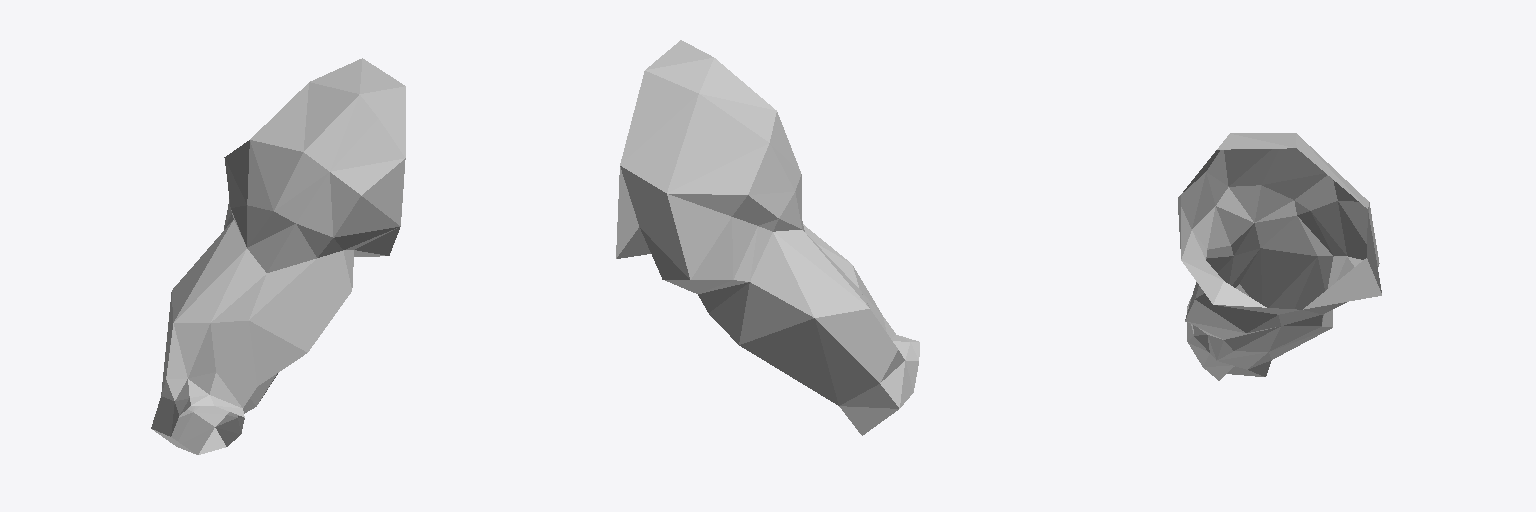
The model's file is BrazoDerecho.obj.
The picture shows the model from 3 angles: view 1: azimuth 30°, elevation 25°; view 2: azimuth 150°, elevation 25°; view 3: azimuth 270°, elevation 25°; orthographic projection.
Visible parts, largest first — view 1: aca.010; view 2: aca.010; view 3: aca.010.
Part boxes in pixels (x1,y1,x2,y2): aca.010: (151,58,405,454); aca.010: (616,40,919,435); aca.010: (1178,133,1381,380).
Bounding box in the file's own units: 0.5556 × 0.7352 × 0.4162.